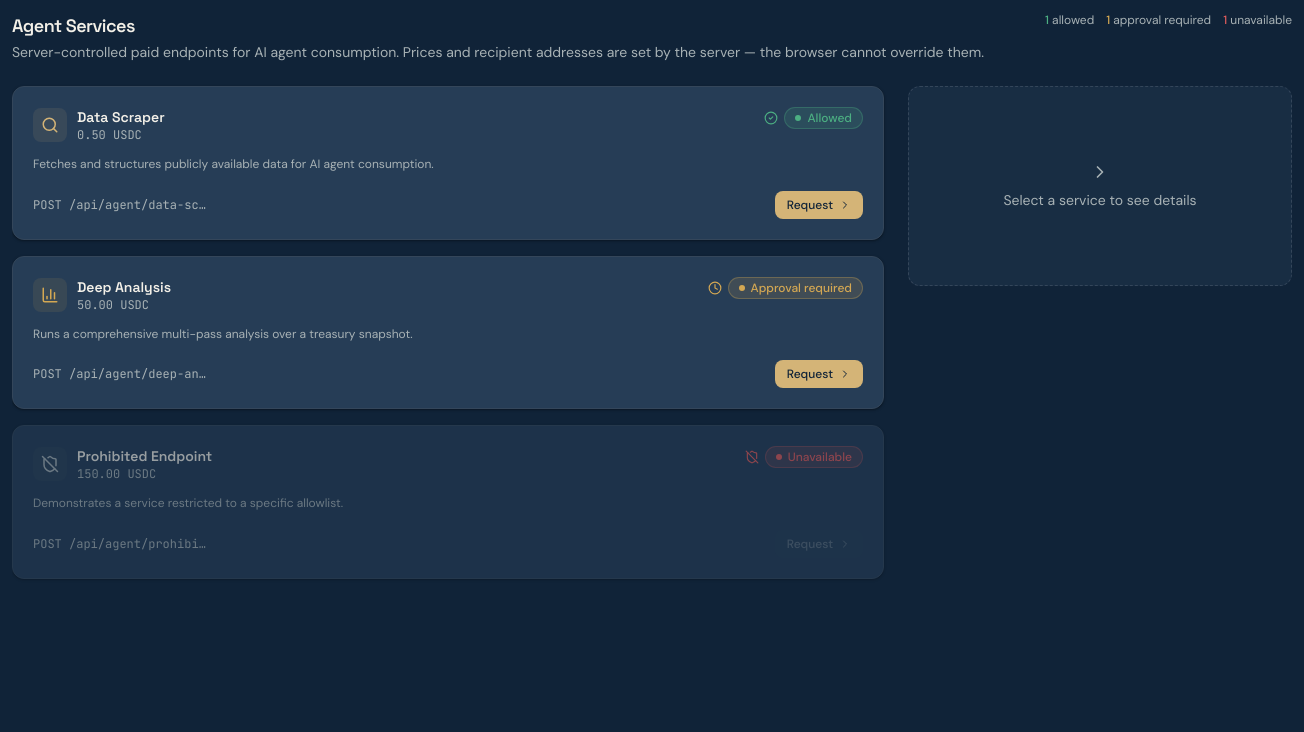
AgentServicesView — service selection › shows the detail panel when a service card is clicked
Click the button with test id "service-card-data-scraper". click: coordinates (50, 125)
box: [12, 86, 884, 240]
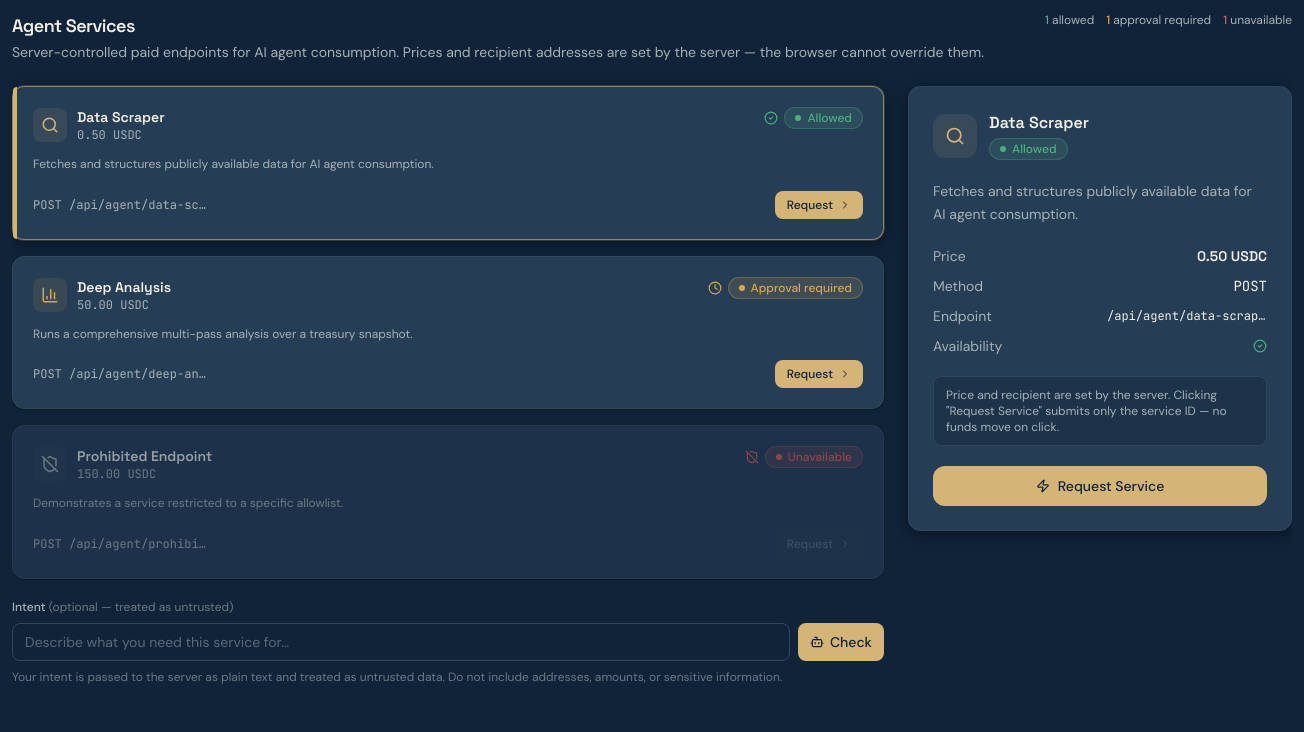
Expected: the element with test id "service-detail-panel" is shown, [908, 86, 1292, 530]
